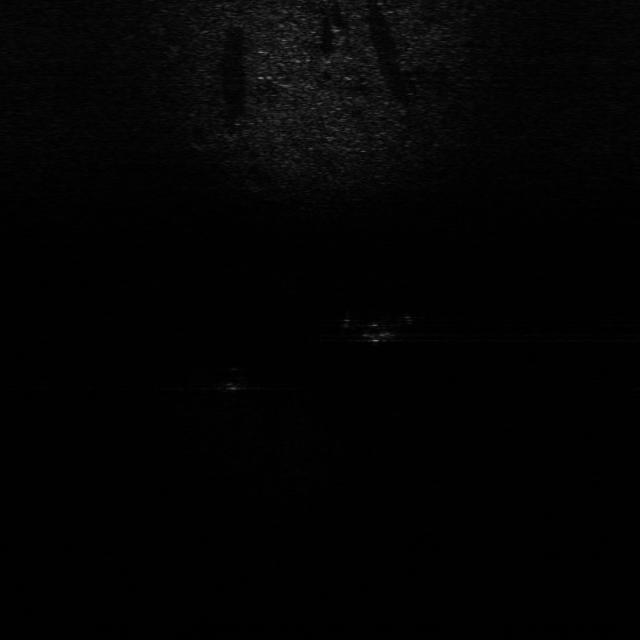ball: (210, 361, 252, 394)
human body: (333, 308, 422, 345)
